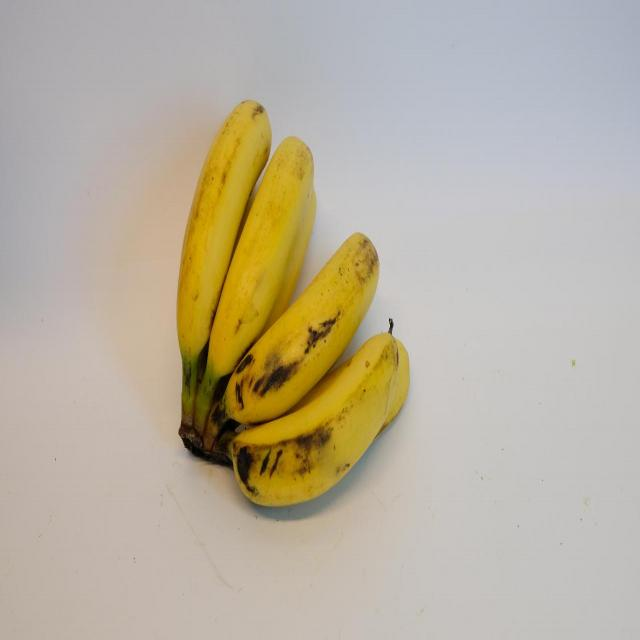banana: (220, 219, 392, 428), (225, 332, 418, 509), (204, 112, 318, 409), (175, 87, 268, 396)
